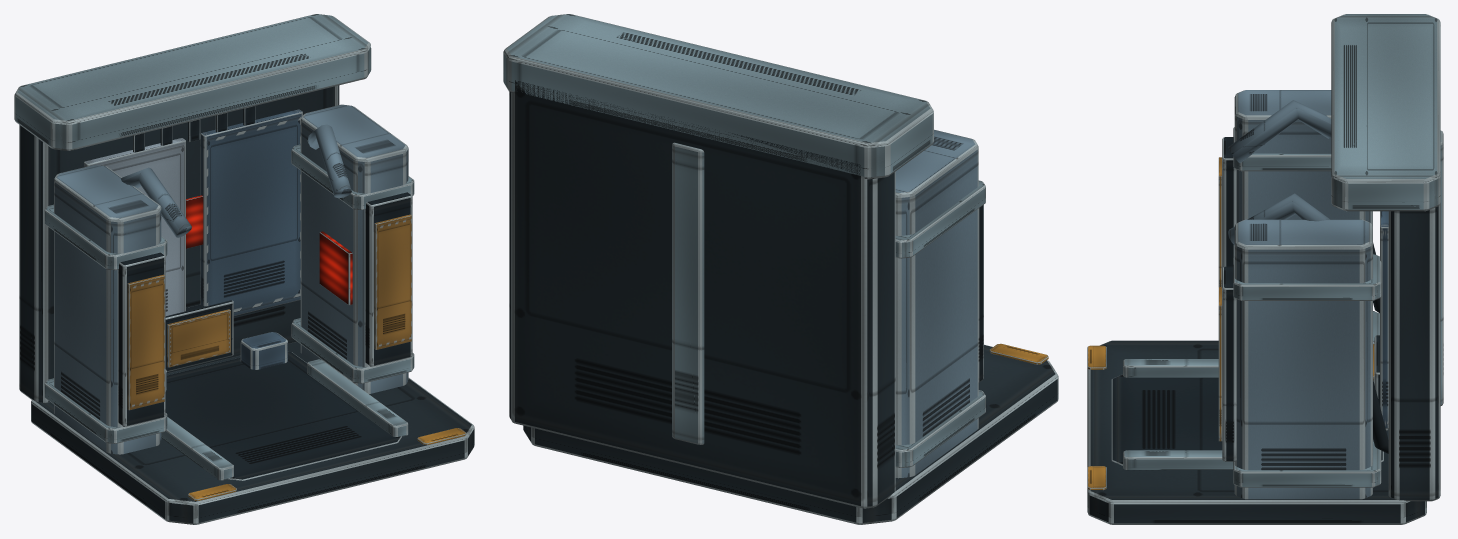
The model's file is V46_HeavyDock.fbx.
3 views of the same model, side by side, from view 1: azimuth 30°, elevation 25°; view 2: azimuth 150°, elevation 25°; view 3: azimuth 270°, elevation 25° (orthographic). The views are drawn at different scales.
Parts seen in each view (by area): view 1: V46_HeavyDock; view 2: V46_HeavyDock; view 3: V46_HeavyDock.
Part boxes in pixels (x1,y1,x2,y2): V46_HeavyDock: (14,14,474,524); V46_HeavyDock: (503,14,1058,524); V46_HeavyDock: (1087,14,1443,524).
Size of the model in its own units: 2.9 by 2.81 by 2.6.
